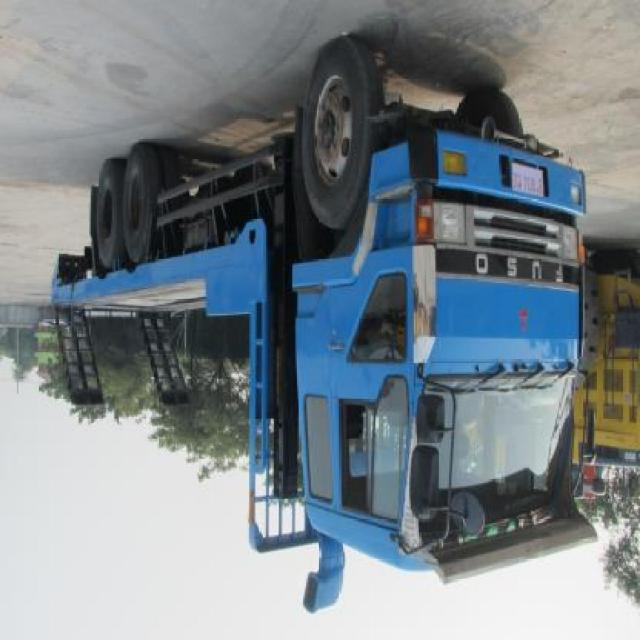truck: (53, 35, 600, 616)
